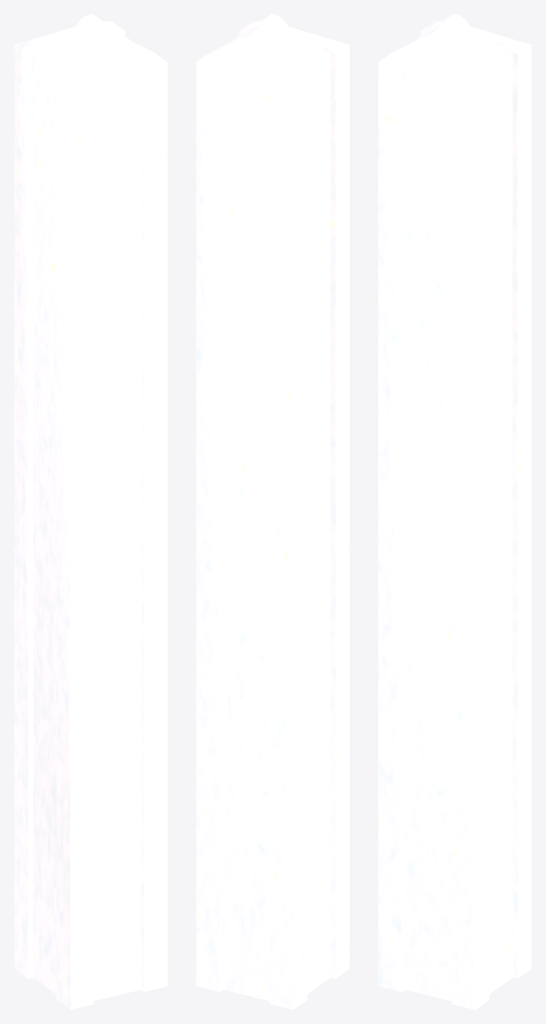
Rendered from CA_006_iron_pillar_var9.glb.
3 renders of one model, left to right at view 1: azimuth 30°, elevation 25°; view 2: azimuth 150°, elevation 25°; view 3: azimuth 330°, elevation 25°, orthographic.
Visible parts, largest first — view 1: pillar; view 2: pillar; view 3: pillar.
Part boxes in pixels (x1,y1,x2,y2): pillar: (14, 14, 167, 1009); pillar: (196, 14, 349, 1009); pillar: (378, 14, 531, 1009).
Size of the model in its own units: 0.75 by 7.1 by 0.75.
Materials: 1 (1 with a texture image).
